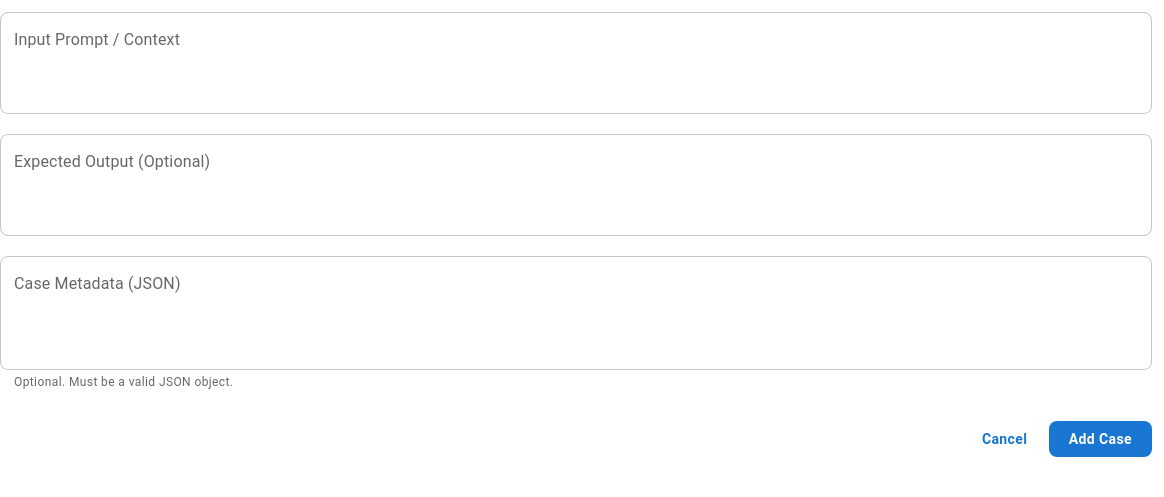
it: DatasetCaseForm › shows validation error when input is empty
Click the button "Add Case": click(1100, 439) top-left (1049, 421), bottom-right (1152, 457)
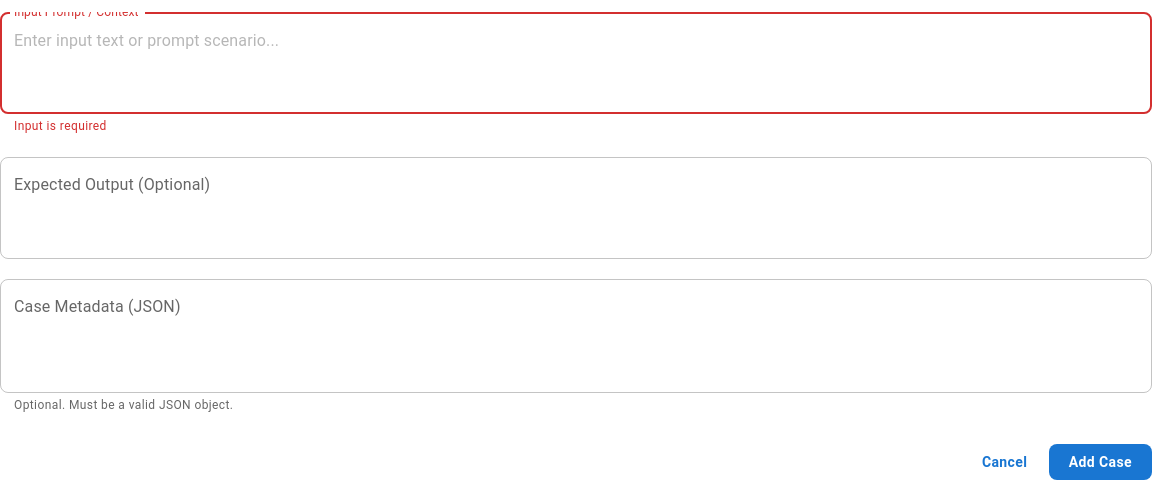
Check: the text "Input is required" is shown, box top-left (14, 119), bottom-right (107, 133)
